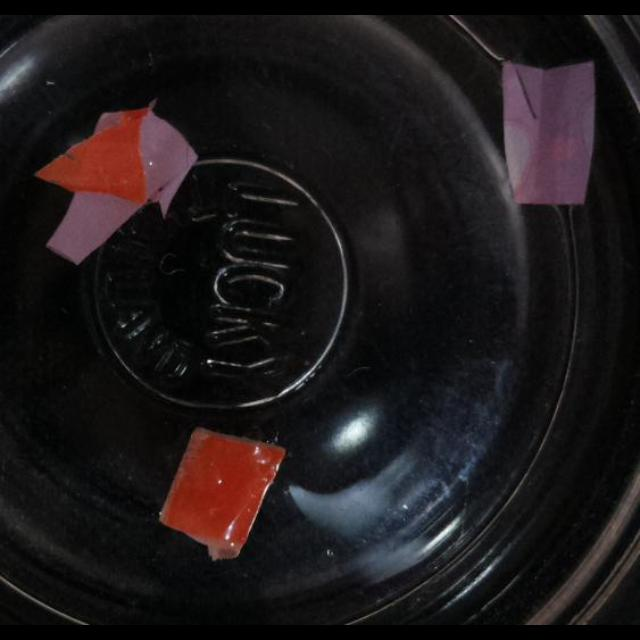Fragment: (34, 100, 200, 274), (148, 422, 284, 566), (504, 61, 596, 205)
